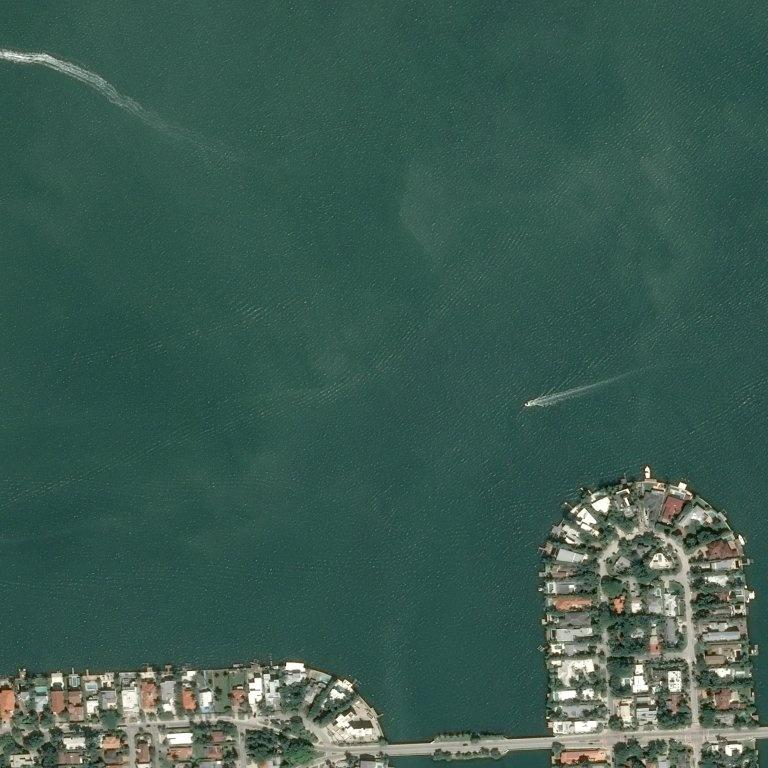ship: (522, 401, 538, 406), (532, 399, 534, 402), (533, 389, 536, 391), (524, 403, 526, 405)
